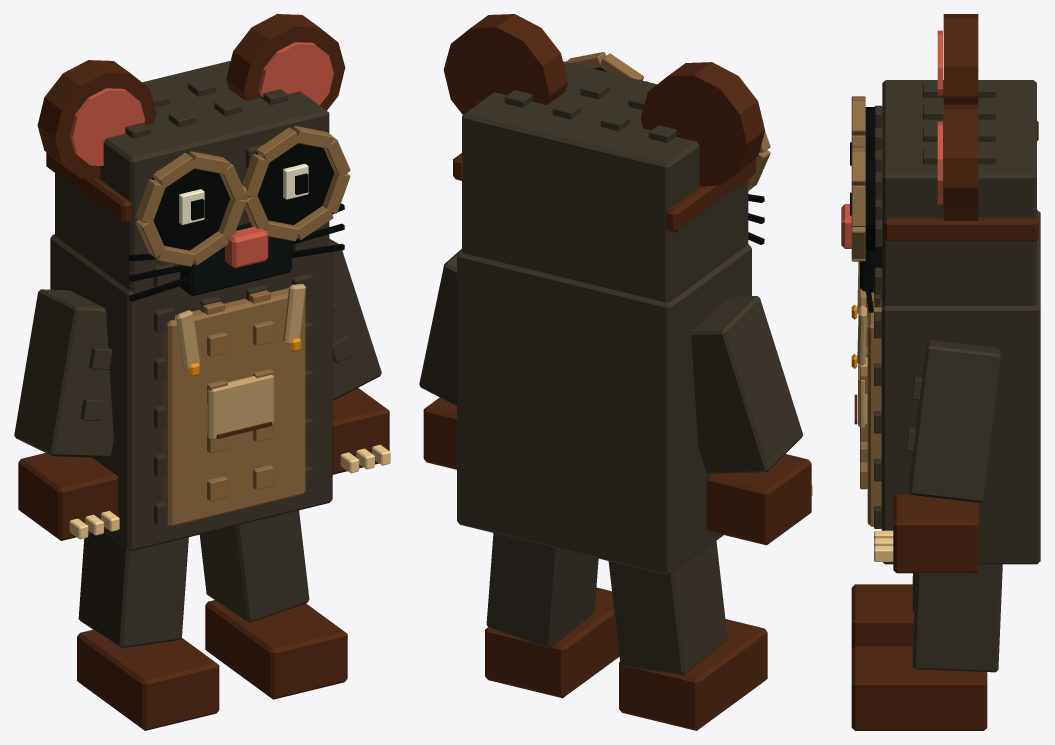
The model's file is TalpaDiFero.glb.
3 renders of one model, left to right at view 1: azimuth 30°, elevation 25°; view 2: azimuth 150°, elevation 25°; view 3: azimuth 270°, elevation 25°, orthographic. The views are drawn at different scales.
Parts seen in each view (by area): view 1: TalpaDiFero; view 2: TalpaDiFero; view 3: TalpaDiFero.
Boxes of the visible parts, x1,y1,x2,y2 form: TalpaDiFero: (14, 14, 390, 730); TalpaDiFero: (419, 14, 812, 730); TalpaDiFero: (841, 14, 1040, 730).
Size of the model in its own units: 2.81 by 5 by 1.46.
Materials: 1 (1 with a texture image).
